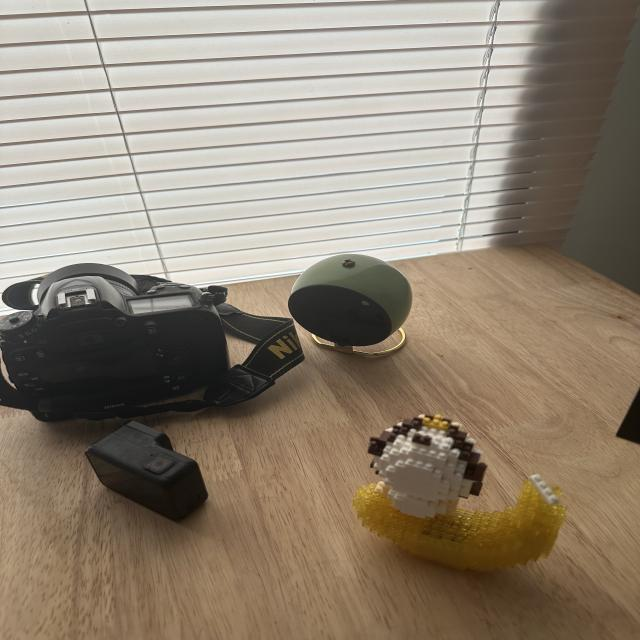actioncam: (62, 410, 244, 550)
camera: (0, 242, 315, 432)
clock: (247, 236, 448, 382)
toy: (313, 387, 613, 596)
